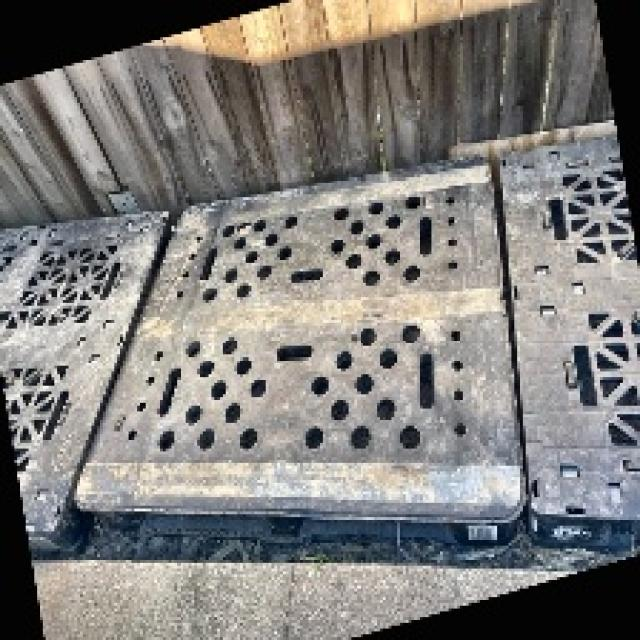igps: (69, 150, 536, 555), (0, 202, 187, 571), (485, 123, 640, 566)
